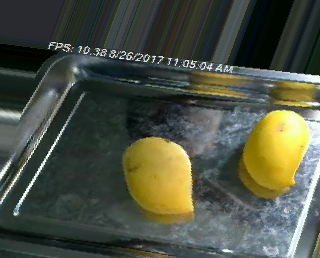Mango: (121, 136, 195, 213), (241, 109, 312, 189)
